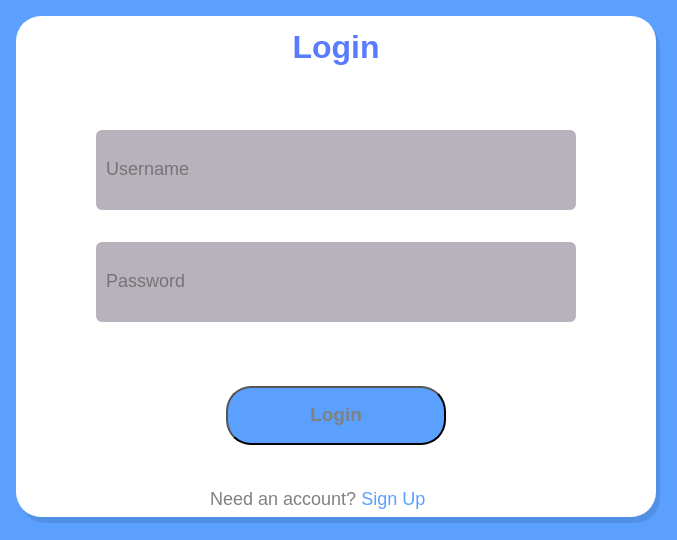
Scenario: should not submit form if username or password is empty
Note: when (submitting with empty fields)
Click the button "Login": [336, 415] box [226, 386, 446, 445]
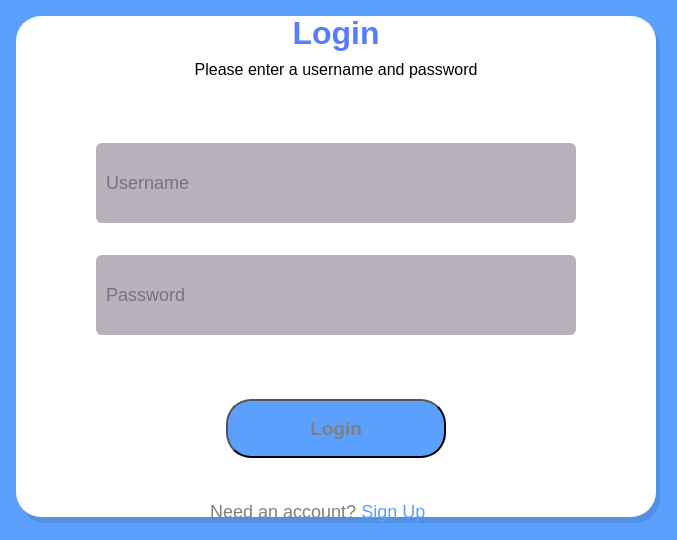
Check: the text "Please enter a username and password" is shown, box [195, 61, 477, 79]
